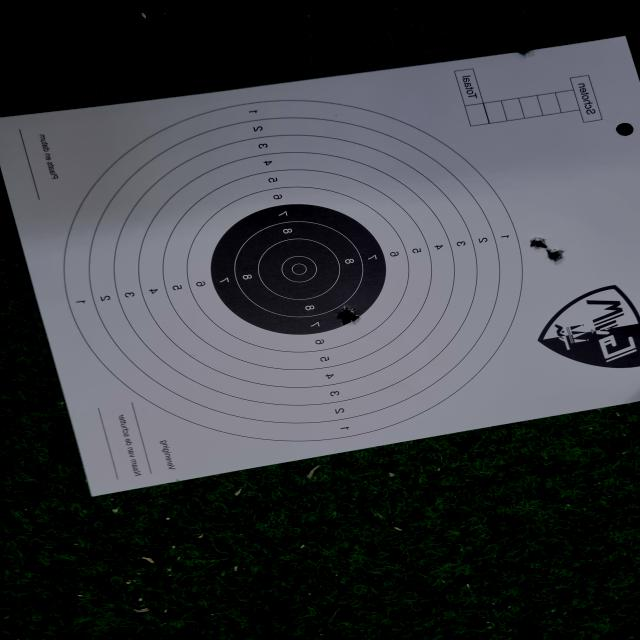0: (546, 247, 564, 263), (531, 235, 548, 251)
7: (338, 306, 360, 326)
Target: (63, 99, 524, 443)
black_contour: (210, 203, 387, 336)
